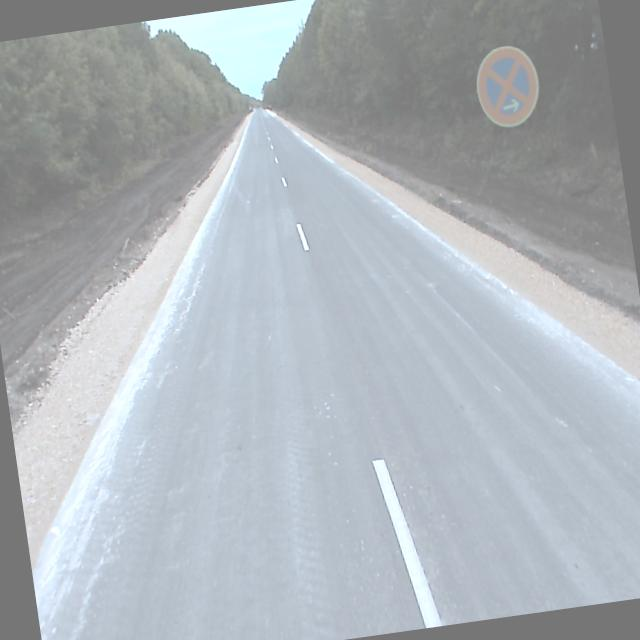road: (33, 111, 640, 640)
